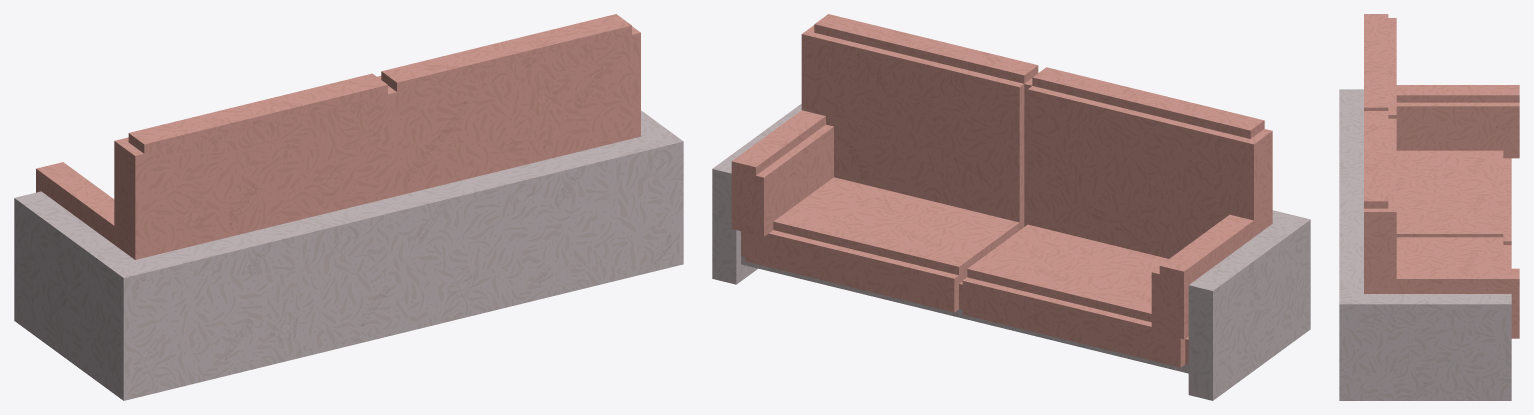
Rendered from sofa3.glb.
3 views of the same model, side by side, from view 1: azimuth 30°, elevation 25°; view 2: azimuth 150°, elevation 25°; view 3: azimuth 270°, elevation 25° (orthographic). The views are drawn at different scales.
Visible parts, largest first — view 1: unnamed_mesh1; view 2: unnamed_mesh1; view 3: unnamed_mesh1.
Boxes of the visible parts, <box> form: unnamed_mesh1: <box>14,14,683,400</box>; unnamed_mesh1: <box>712,14,1310,400</box>; unnamed_mesh1: <box>1339,14,1519,400</box>.
Bounding box in the file's own units: 62 × 25 × 22.
1 material, 1 textured.
